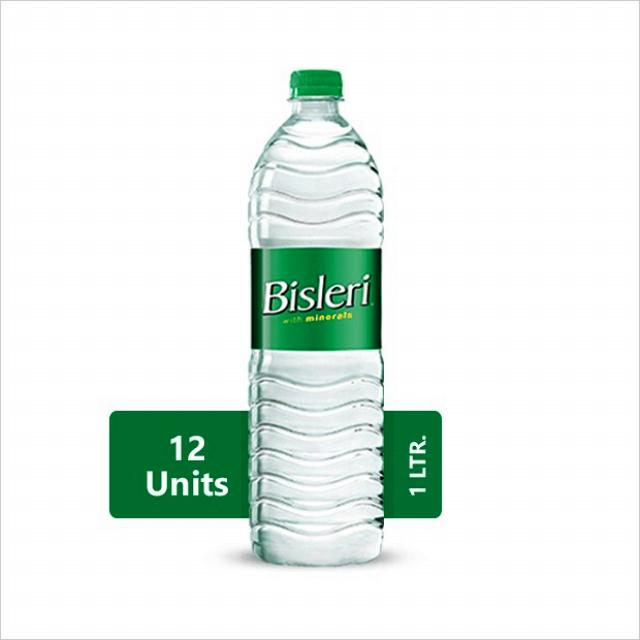full-bottle: (241, 66, 394, 570)
